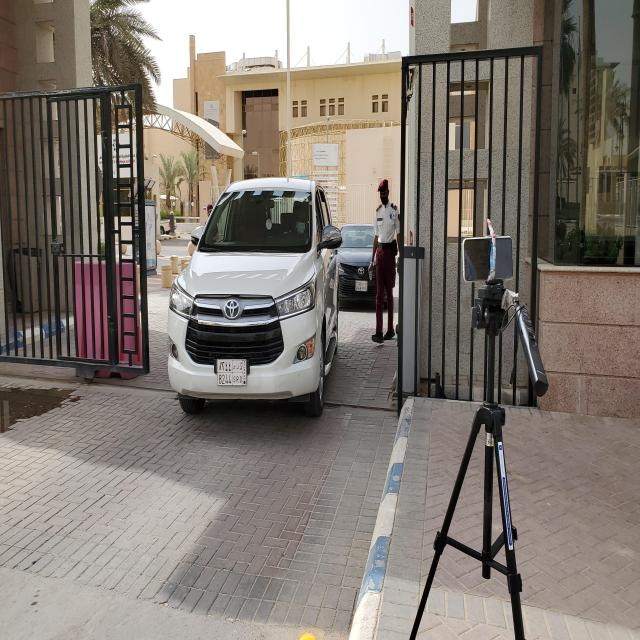license_plate: (213, 356, 249, 392), (355, 280, 368, 292)
